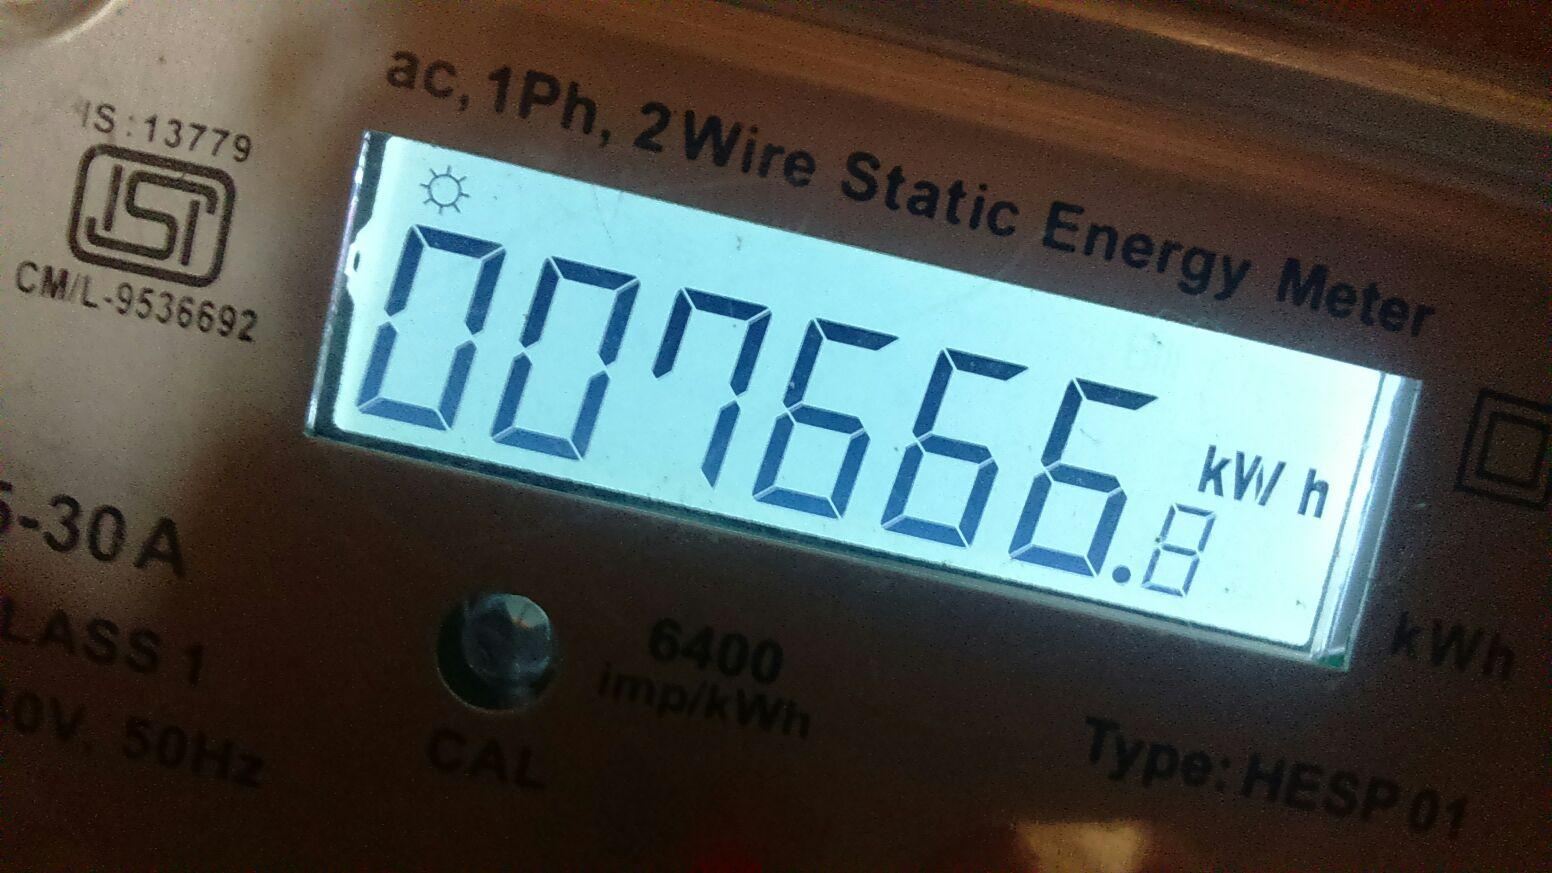.: (1196, 435, 1347, 532)
0: (1104, 557, 1141, 599)
1: (342, 212, 518, 437), (477, 247, 656, 462)
7: (990, 364, 1171, 585), (872, 339, 1043, 544), (755, 304, 903, 510)
8: (617, 259, 781, 479)
9: (1139, 489, 1226, 602)
